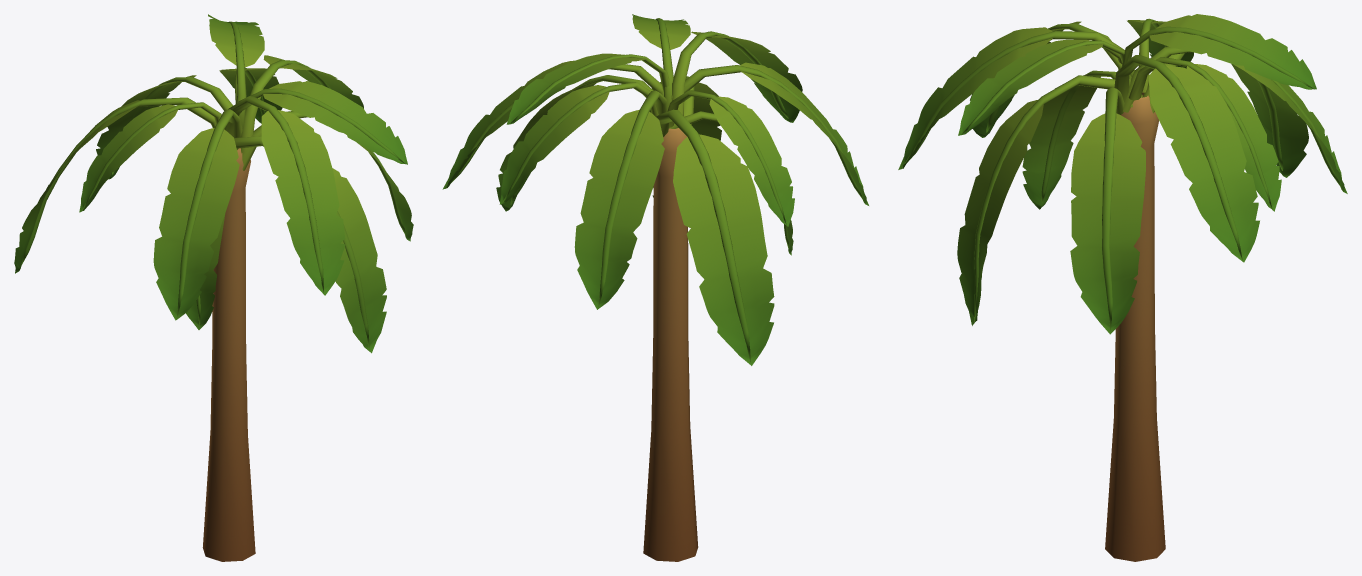
Rendered from MDL_E_CoconutTree_01.fbx.
3 renders of one model, left to right at view 1: azimuth 30°, elevation 25°; view 2: azimuth 150°, elevation 25°; view 3: azimuth 270°, elevation 25°, orthographic. The views are drawn at different scales.
Parts seen in each view (by area): view 1: Cylinder.003, Plane.042, Plane.019, Plane.047, Plane.046, Plane.060, Plane.044, Plane.059, Plane.058, Plane.061, Plane.045, Plane.057 (+1 smaller); view 2: Cylinder.003, Plane.044, Plane.061, Plane.060, Plane.043, Plane.019, Plane.042, Plane.059, Plane.058, Plane.046, Plane.045, Plane.047; view 3: Cylinder.003, Plane.045, Plane.058, Plane.047, Plane.059, Plane.019, Plane.057, Plane.043, Plane.046, Plane.044, Plane.061, Plane.042 (+1 smaller).
Part boxes in pixels (bbox=[...]): Cylinder.003: bbox=[202, 148, 255, 561]; Plane.042: bbox=[153, 109, 242, 320]; Plane.019: bbox=[224, 96, 345, 295]; Plane.047: bbox=[234, 136, 386, 353]; Plane.046: bbox=[238, 81, 407, 164]; Plane.060: bbox=[79, 102, 221, 212]; Plane.044: bbox=[14, 97, 216, 273]; Plane.059: bbox=[208, 14, 264, 127]; Plane.058: bbox=[240, 55, 363, 153]; Plane.061: bbox=[96, 75, 233, 179]; Plane.045: bbox=[242, 111, 413, 241]; Plane.057: bbox=[186, 214, 225, 329]; Cylinder.003: bbox=[643, 128, 698, 561]; Plane.044: bbox=[656, 109, 774, 365]; Plane.061: bbox=[574, 90, 668, 309]; Plane.060: bbox=[667, 90, 794, 226]; Plane.043: bbox=[499, 82, 658, 204]; Plane.019: bbox=[672, 31, 802, 122]; Plane.042: bbox=[671, 62, 868, 205]; Plane.059: bbox=[506, 53, 669, 124]; Plane.058: bbox=[442, 60, 663, 189]; Plane.046: bbox=[632, 14, 690, 108]; Plane.045: bbox=[496, 75, 653, 211]; Plane.047: bbox=[649, 76, 721, 197]; Cylinder.003: bbox=[1105, 92, 1165, 561]; Plane.045: bbox=[1070, 87, 1145, 334]; Plane.058: bbox=[1114, 55, 1259, 262]; Plane.047: bbox=[957, 75, 1115, 325]; Plane.059: bbox=[1121, 14, 1316, 97]; Plane.019: bbox=[898, 27, 1124, 169]; Plane.057: bbox=[1022, 70, 1116, 209]; Plane.043: bbox=[1128, 57, 1281, 211]; Plane.046: bbox=[958, 39, 1134, 135]; Plane.044: bbox=[1142, 53, 1308, 177]; Plane.061: bbox=[1123, 46, 1347, 193]; Plane.042: bbox=[970, 21, 1132, 137].
Bounding box in the file's own units: 407 × 580 × 436.
